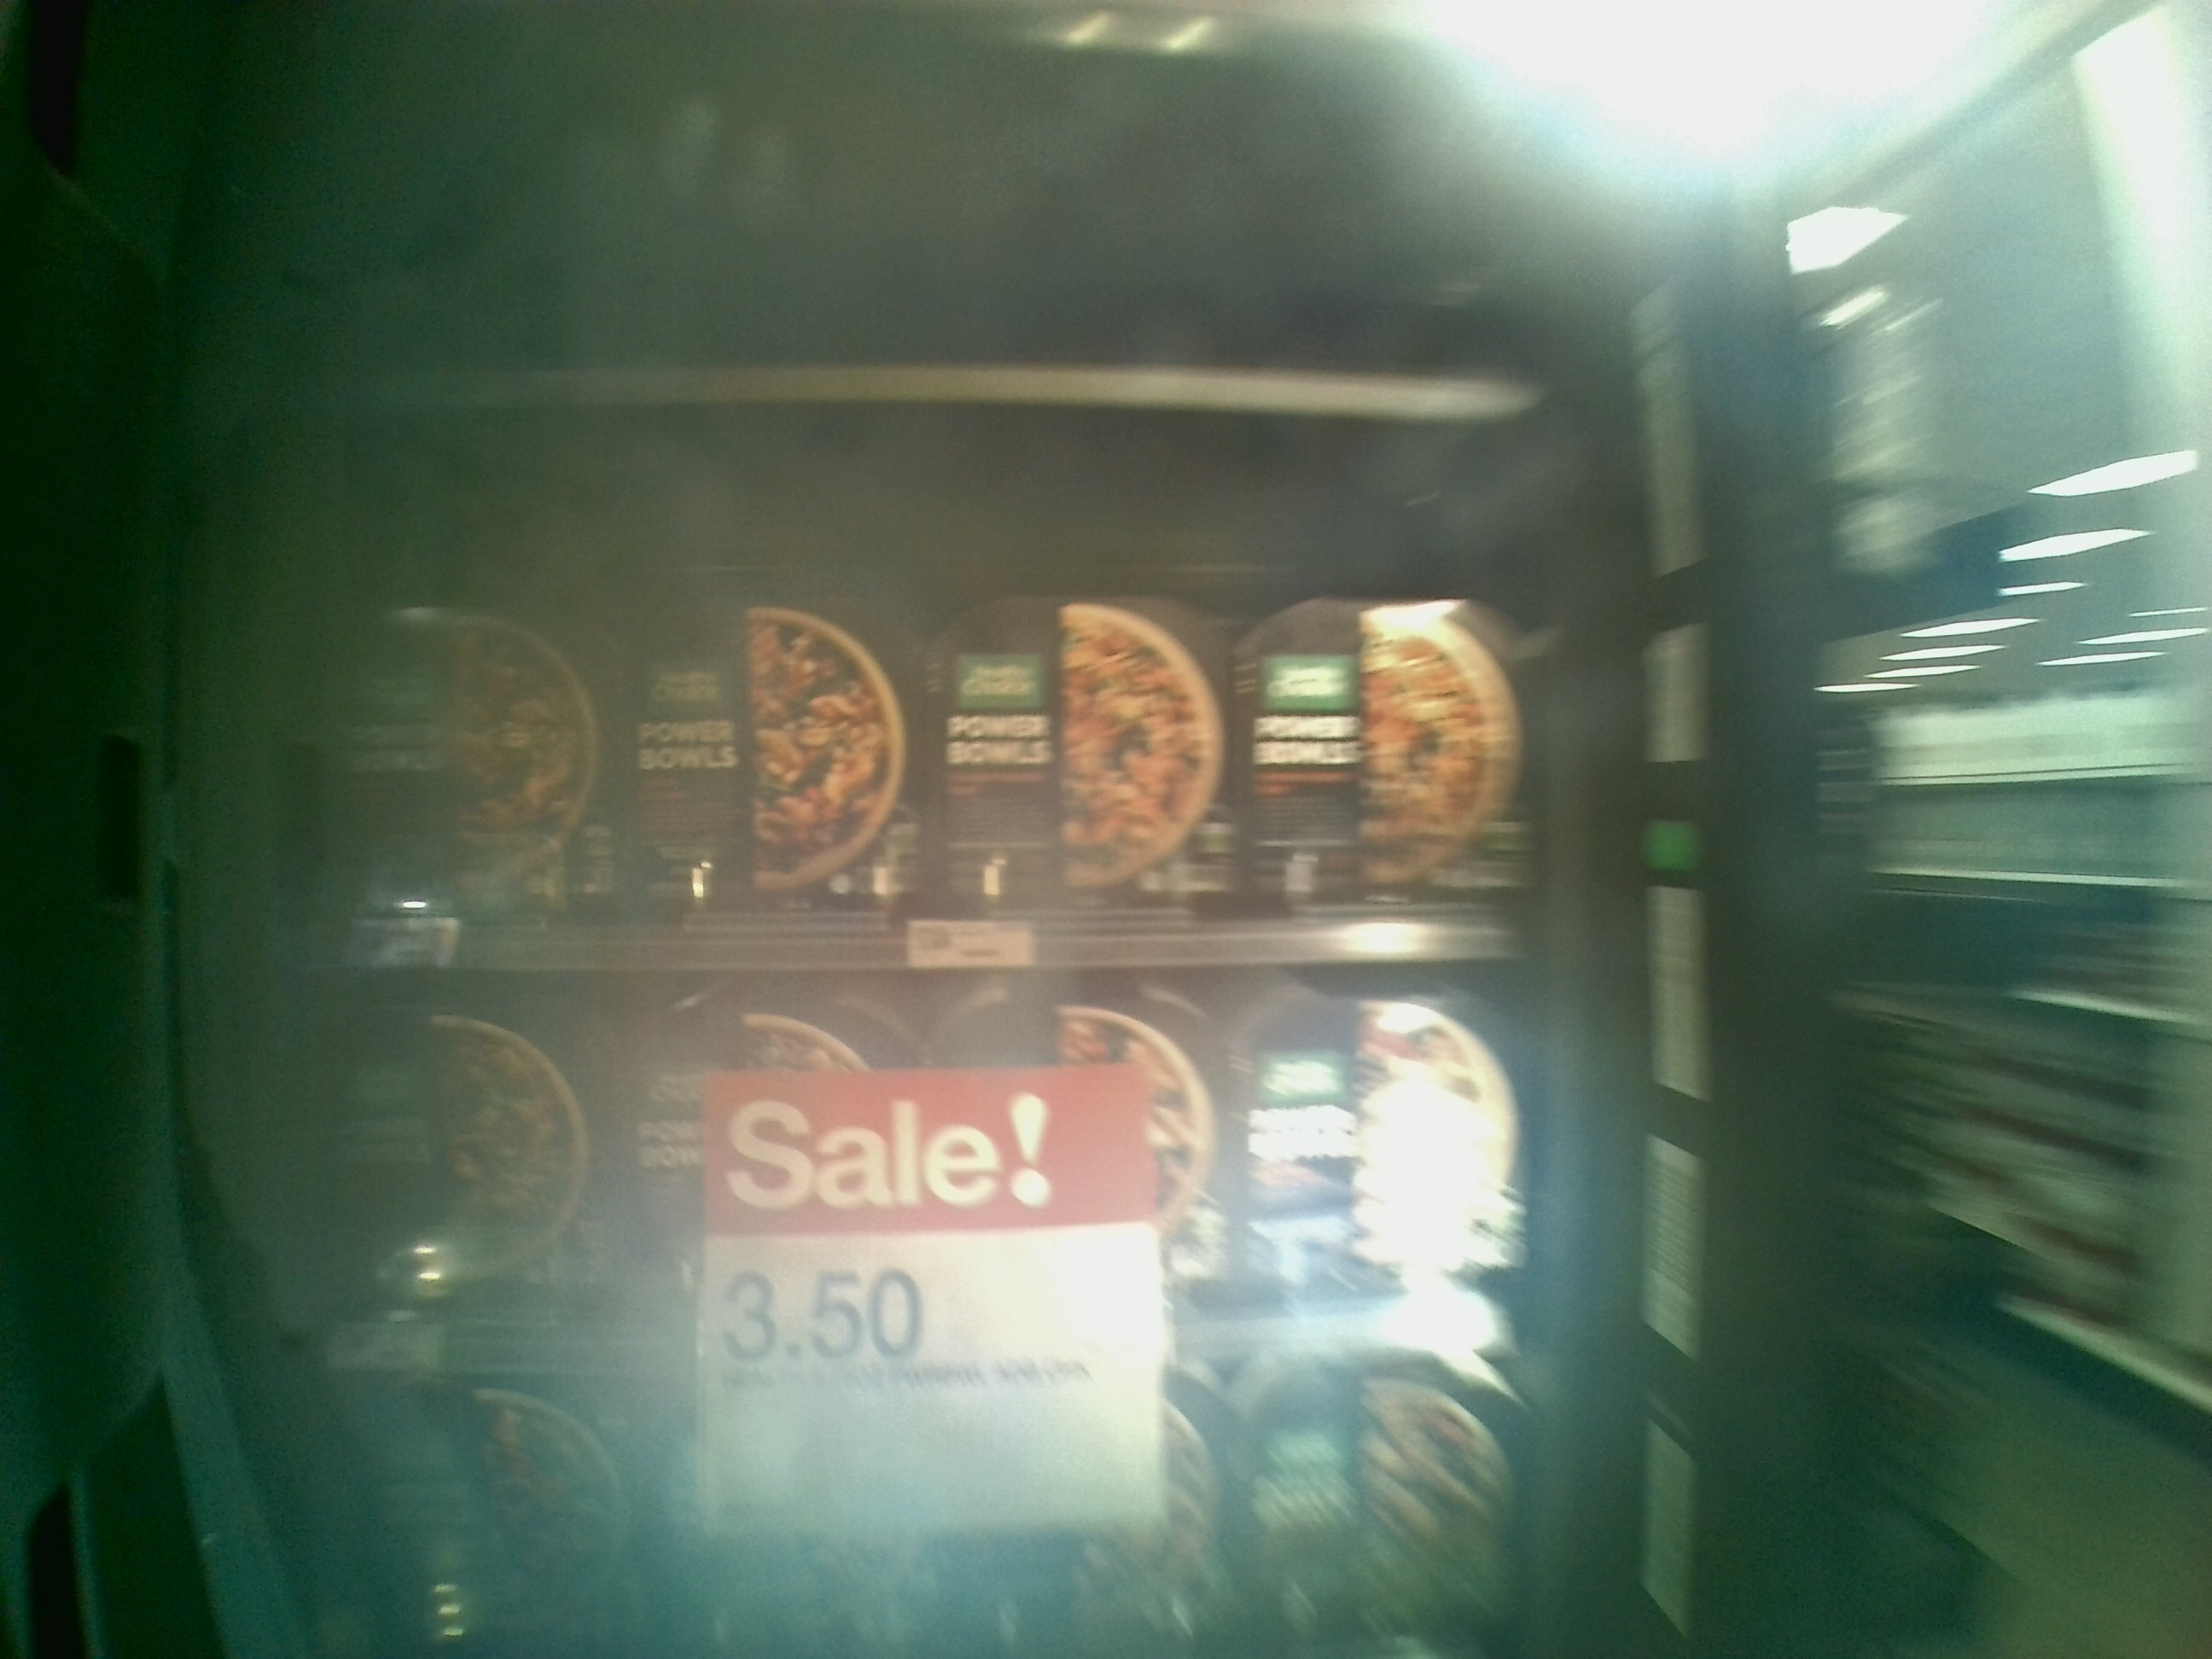shelf: (291, 373, 1522, 964), (291, 950, 1517, 1366)
